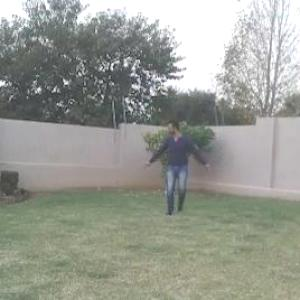land: (141, 98, 225, 233)
